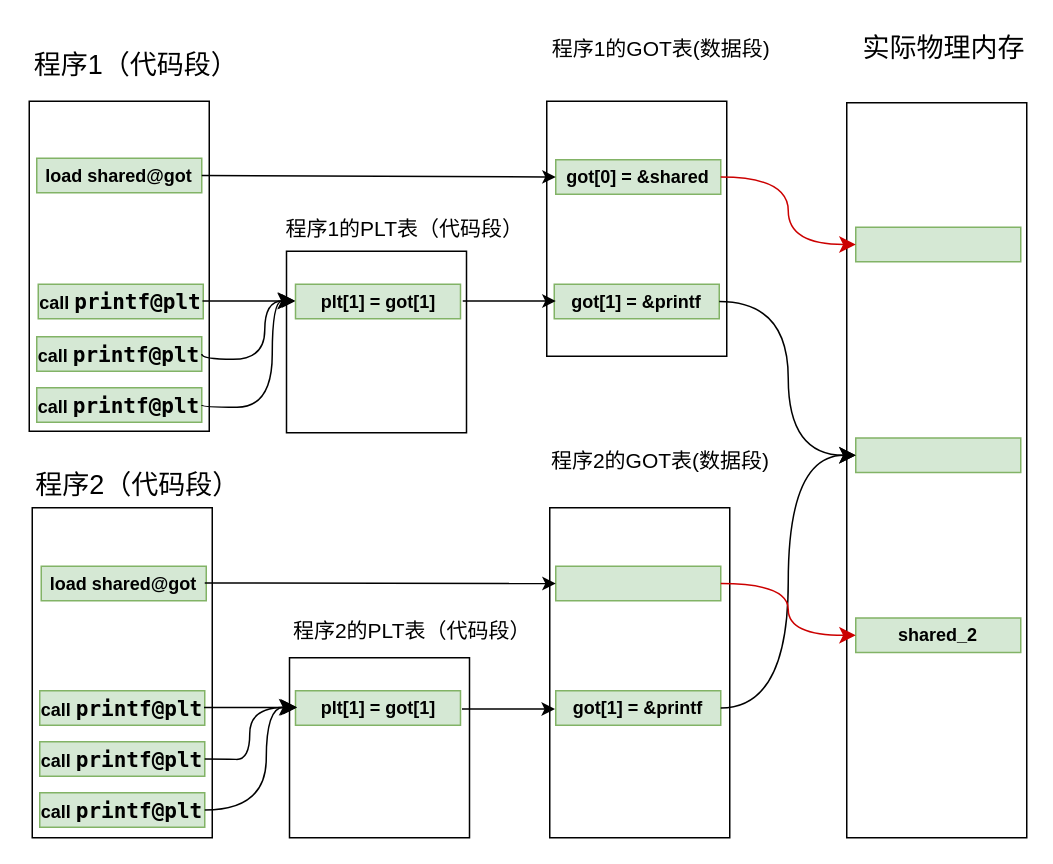
The diagram is 1053 pixels wide and 864 high, and some of its shapes have lost their labels. The centre of each missing label's shape, as x and y in pixels:
got[0] = &printf: (x=637, y=583)
printf: (x=937, y=454)
shared_1: (x=937, y=244)
